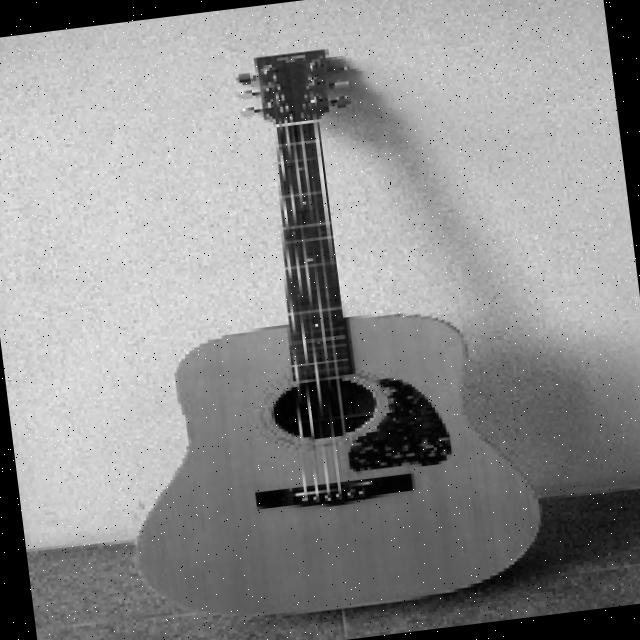guitar: (74, 28, 549, 630)
